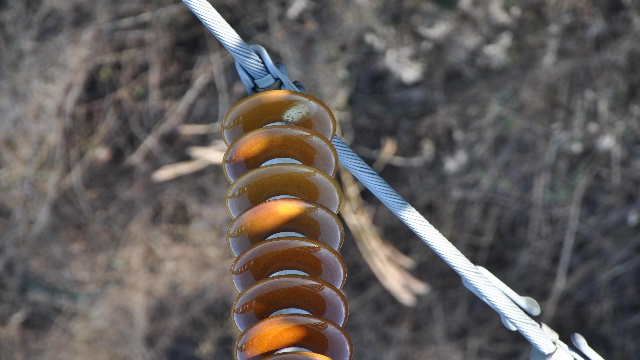insulator_unspecified: (222, 90, 353, 359)
pollution_flashover_local: (283, 97, 317, 126)
